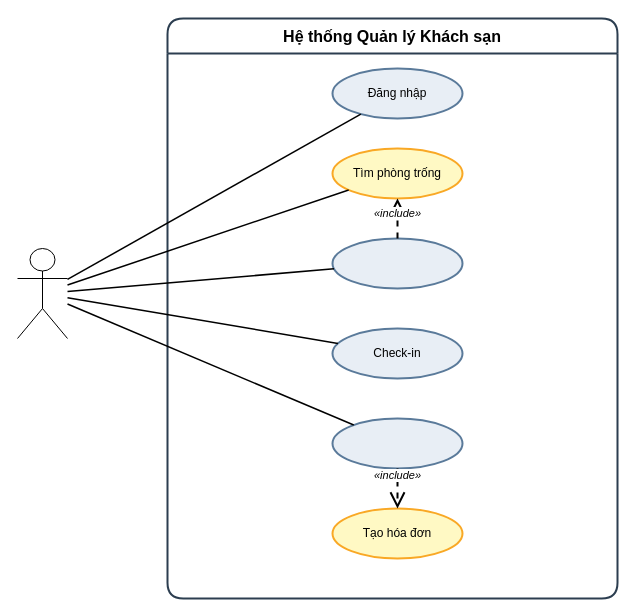
Image size: 636x616. Some labels were removed from this diagram. Each missing label, with the centre of its shape:
"Check-out" belongs at point 397,443.
"Lễ tân (Staff)" belongs at point 42,293.
"Đặt phòng mới" belongs at point 397,263.
